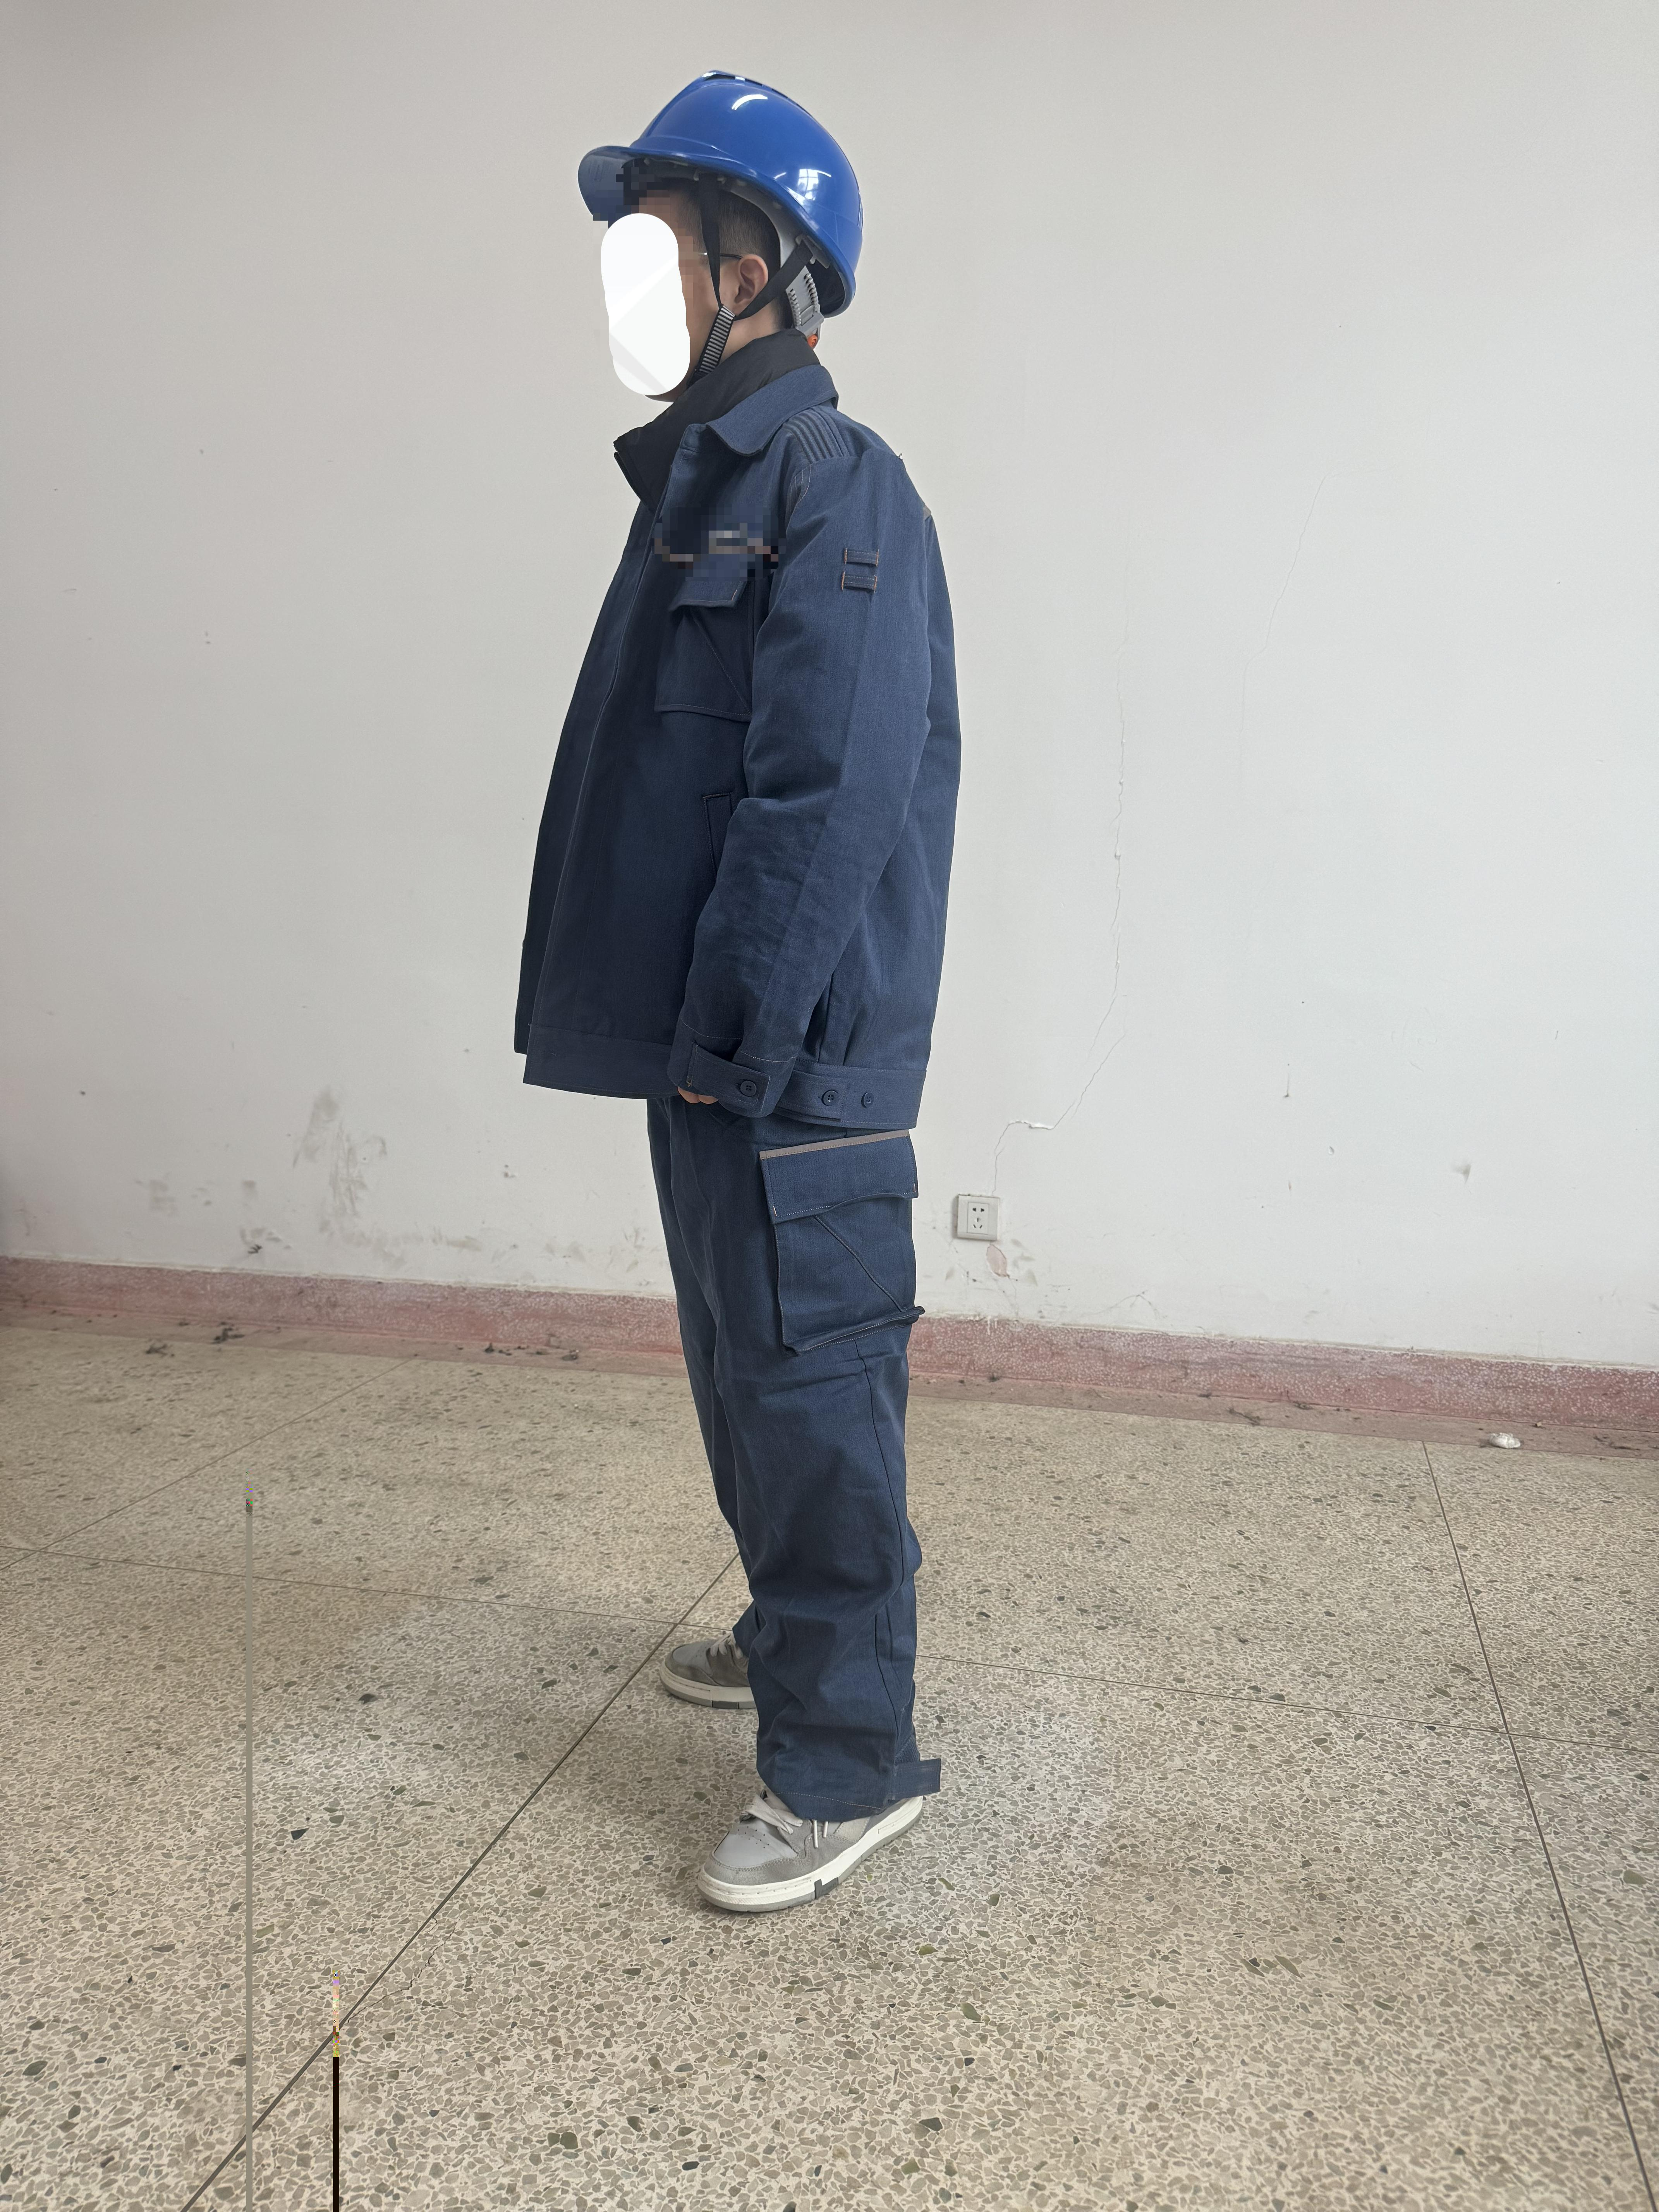halt: (568, 70, 875, 402)
inear: (681, 192, 802, 369)
